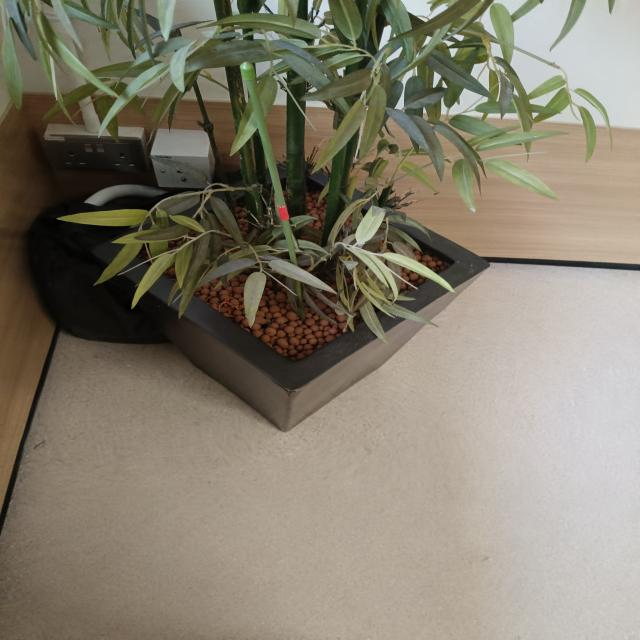Pot: (91, 154, 493, 434)
